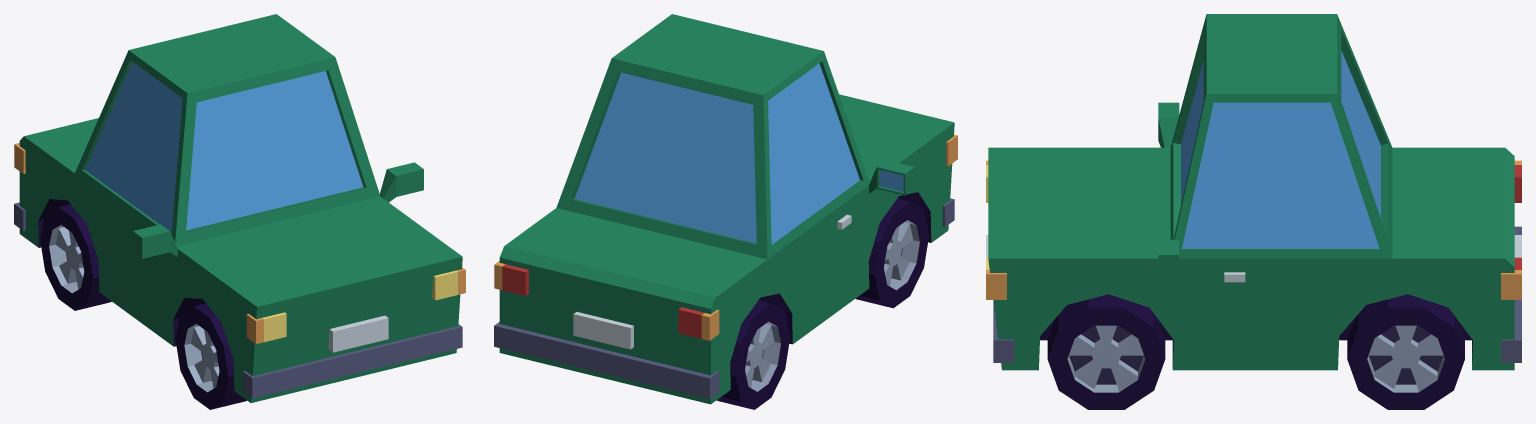
File: car_green.glb
3 renders of one model, left to right at view 1: azimuth 30°, elevation 25°; view 2: azimuth 150°, elevation 25°; view 3: azimuth 270°, elevation 25°, orthographic. The views are drawn at different scales.
Parts seen in each view (by area): view 1: Cube; view 2: Cube; view 3: Cube.
Part boxes in pixels (<box>): Cube: <box>14,14,465,409</box>; Cube: <box>494,14,957,409</box>; Cube: <box>986,14,1521,409</box>.
Size of the model in its own units: 2.74 by 2.51 by 4.07.
Materials: 1 (1 with a texture image).
